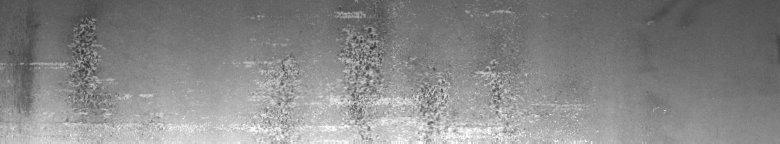hc: (20, 18, 100, 87)
